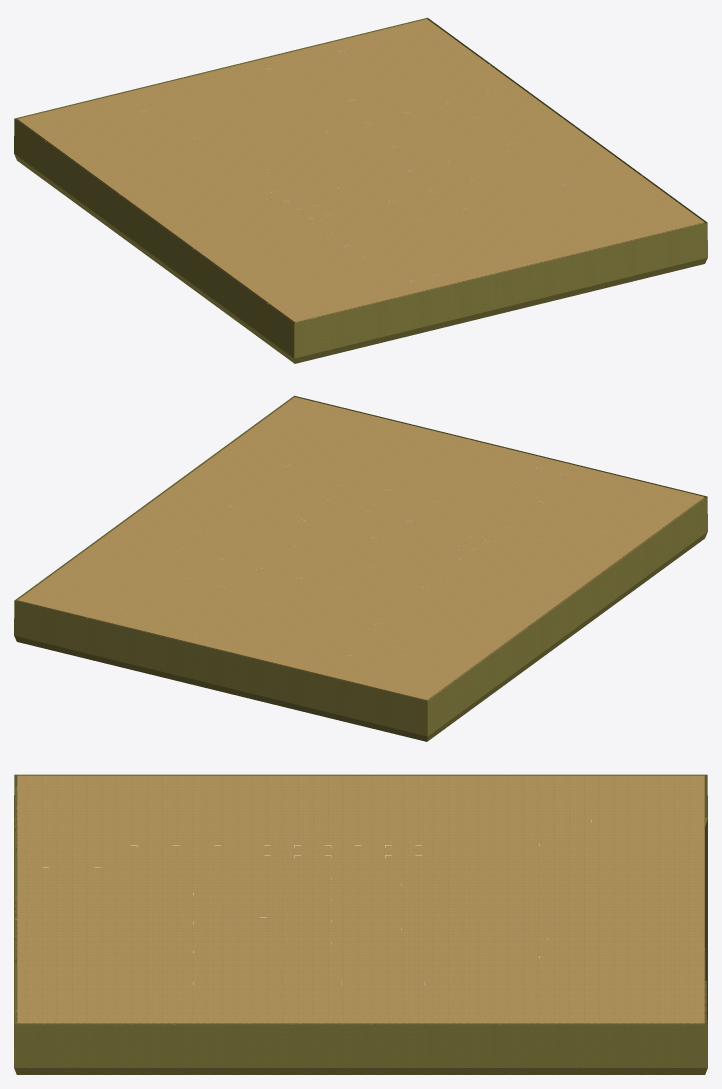
3 renders of one model, top to bottom at view 1: azimuth 30°, elevation 25°; view 2: azimuth 150°, elevation 25°; view 3: azimuth 270°, elevation 25°, orthographic. The views are drawn at different scales.
Visible parts, largest first — view 1: Backroom; view 2: Backroom; view 3: Backroom.
Boxes of the visible parts, bbox=[...] form: Backroom: bbox=[14, 17, 707, 363]; Backroom: bbox=[14, 395, 707, 741]; Backroom: bbox=[14, 774, 707, 1074].
Size of the model in its own units: 46.9 by 4.91 by 55.01.
Materials: 6 (5 with a texture image).
